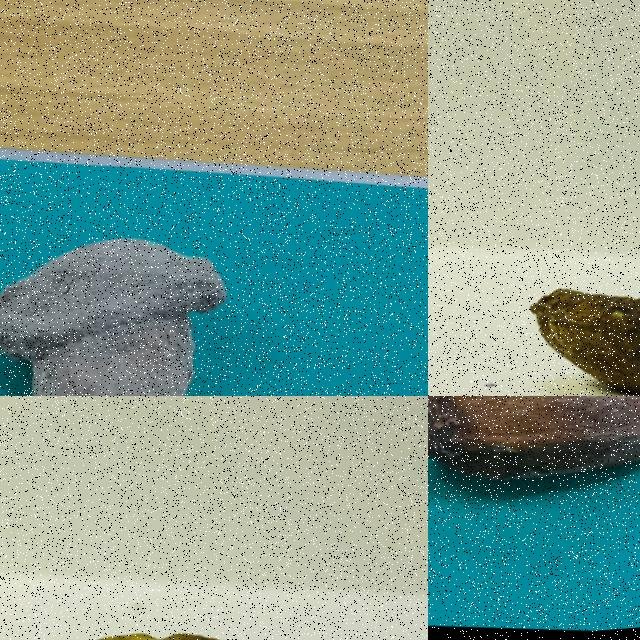Agglomerated_cocoabeans: (0, 184, 300, 395)
Fine_cocoabeans: (428, 396, 639, 560)
Flat_cocoabeans: (440, 213, 639, 395), (0, 579, 367, 639)
